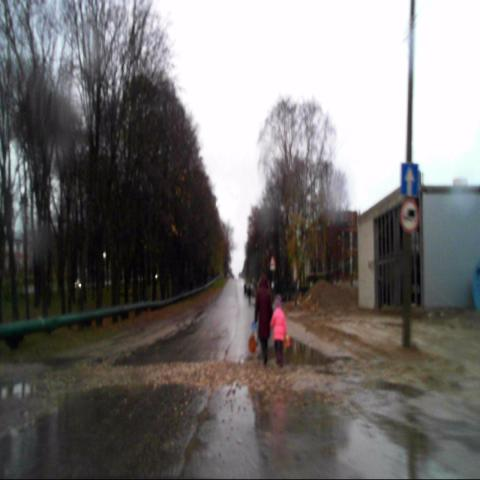3_4_1: (400, 197, 418, 232)
5_5: (400, 163, 419, 197)
